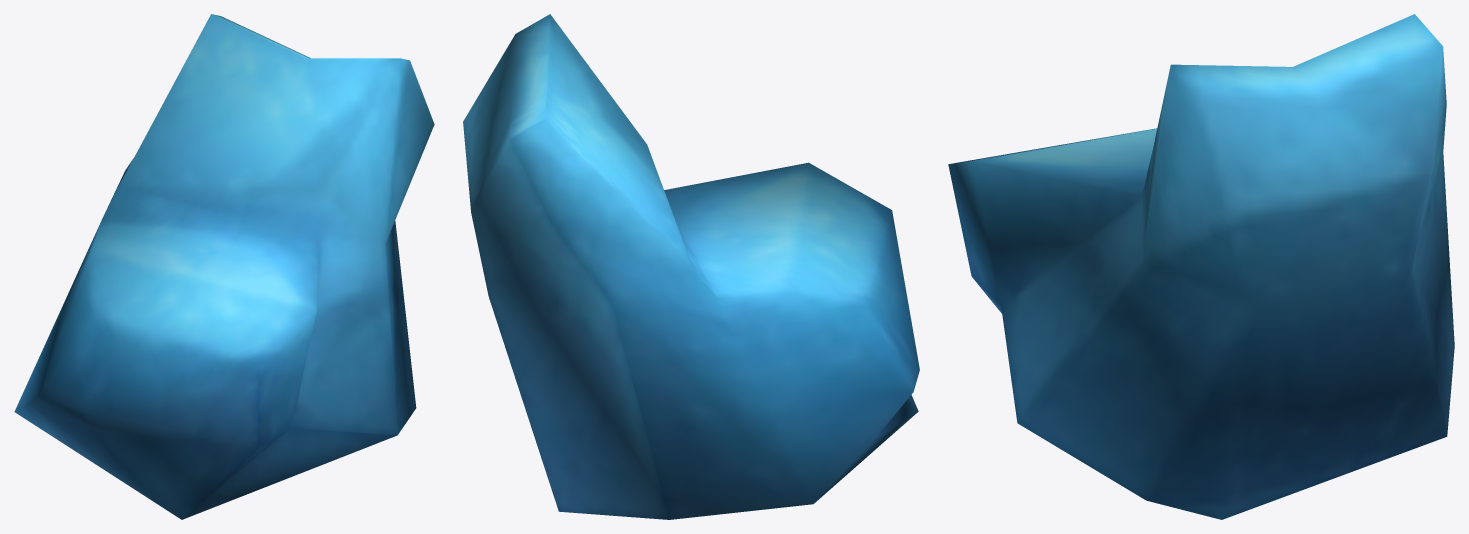
The model's file is Stage_BingYuan_BingLing05.FBX.
3 renders of one model, left to right at view 1: azimuth 30°, elevation 25°; view 2: azimuth 150°, elevation 25°; view 3: azimuth 270°, elevation 25°, orthographic. The views are drawn at different scales.
Parts seen in each view (by area): view 1: Stage_BingYuan_BingLing05; view 2: Stage_BingYuan_BingLing05; view 3: Stage_BingYuan_BingLing05.
Part boxes in pixels (x1,y1,x2,y2): Stage_BingYuan_BingLing05: (14,14,434,519); Stage_BingYuan_BingLing05: (463,14,919,519); Stage_BingYuan_BingLing05: (948,14,1454,519).
Bounding box in the file's own units: 80.91 × 69.59 × 69.42.
